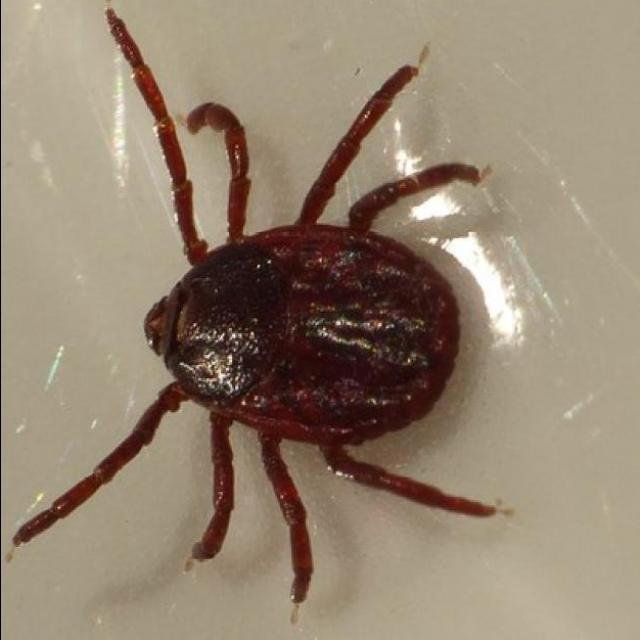Rhipicephalus Sanguineus-F: (12, 6, 497, 607)
